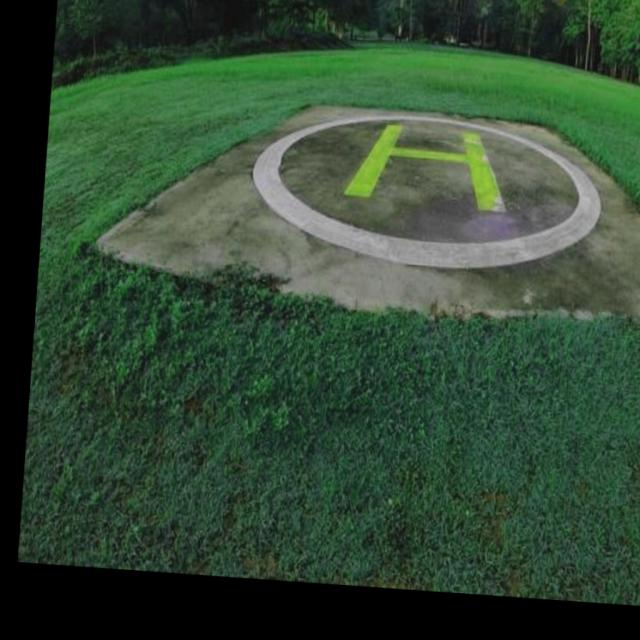helipad: (250, 106, 604, 276)
